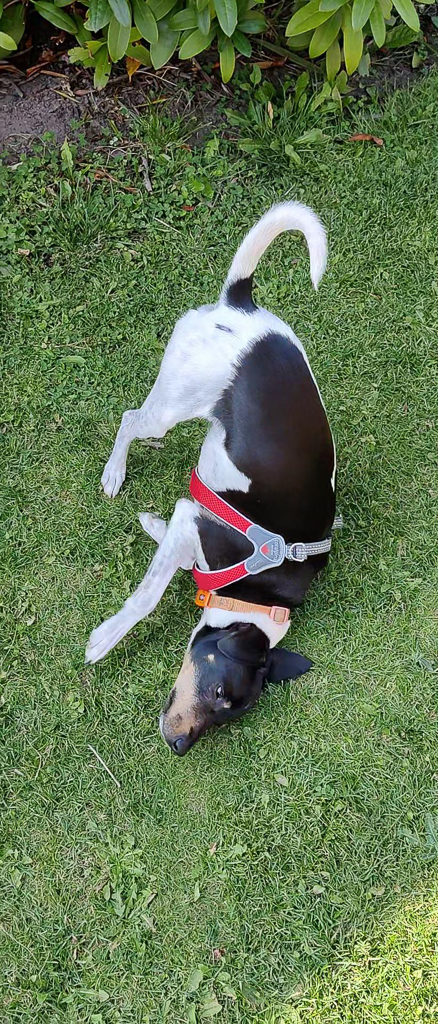Dog: (70, 172, 372, 777)
